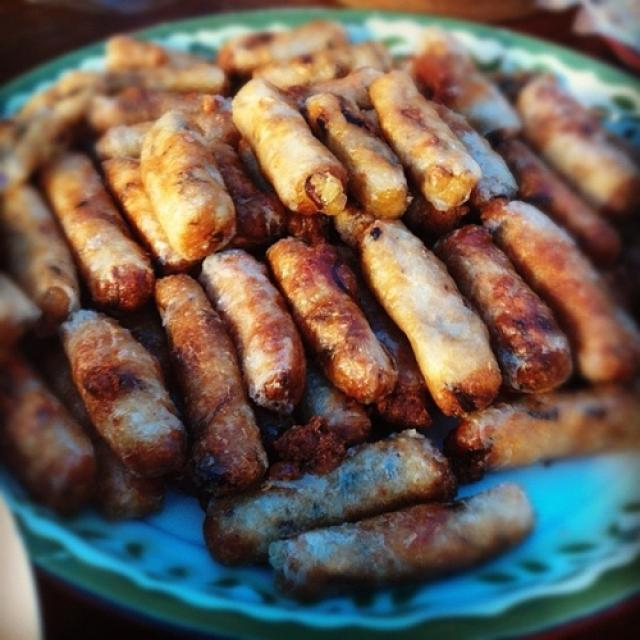炸货点心: (23, 34, 620, 578)
